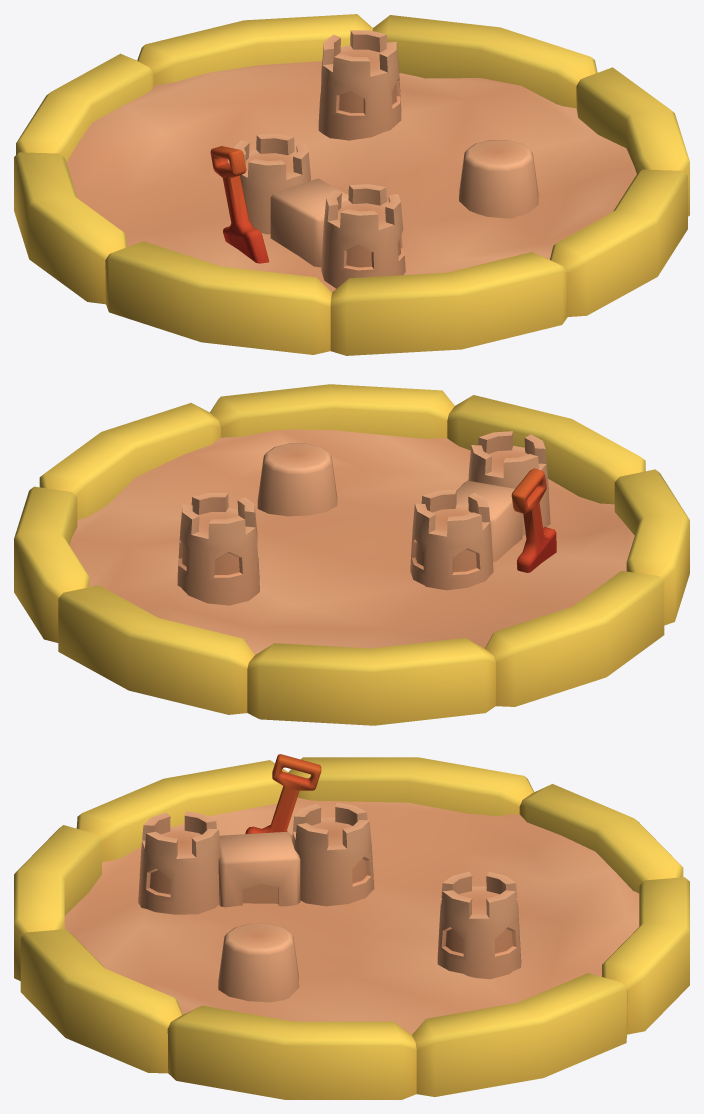
The model's file is sandbox_round_decorated.gltf.
The picture shows the model from 3 angles, top to bottom: view 1: azimuth 30°, elevation 25°; view 2: azimuth 150°, elevation 25°; view 3: azimuth 270°, elevation 25°; orthographic projection.
Visible parts, largest first — view 1: sandbox_round_decorated; view 2: sandbox_round_decorated; view 3: sandbox_round_decorated.
Boxes of the visible parts, x1,y1,x2,y2 form: sandbox_round_decorated: (14,14,689,355); sandbox_round_decorated: (14,384,689,725); sandbox_round_decorated: (14,754,689,1099).
Bounding box in the file's own units: 4 × 0.9138 × 4.
Materials: 1 (1 with a texture image).
